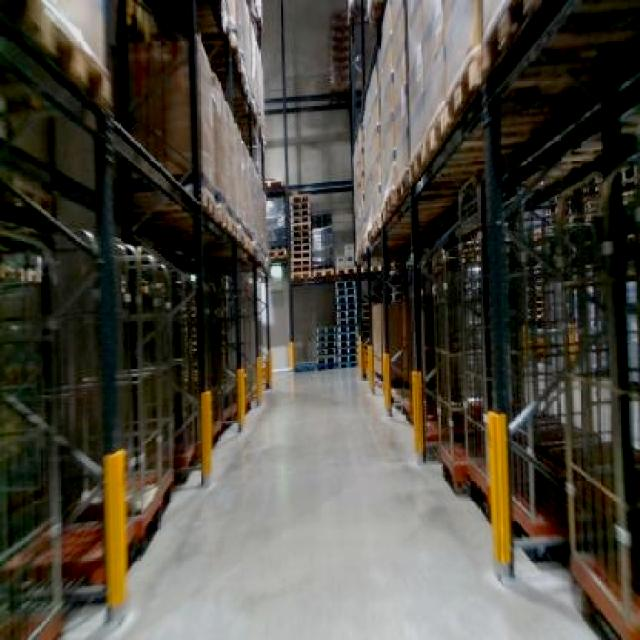floor: (106, 368, 594, 637)
pallets: (348, 0, 637, 637)
